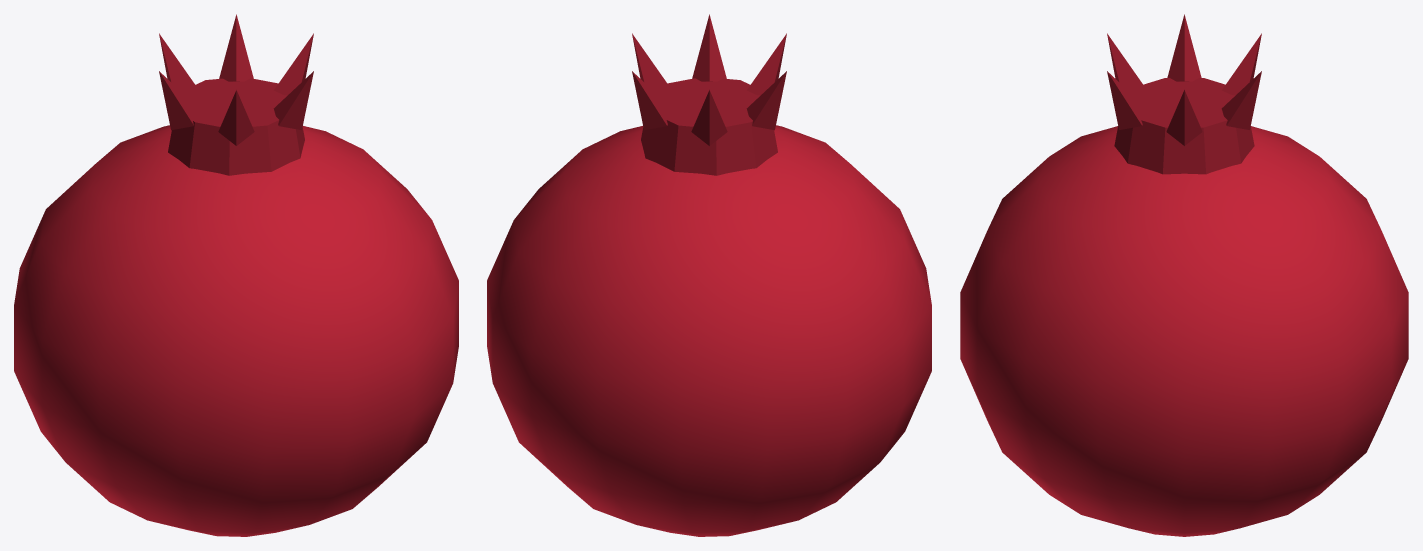
The model's file is Fruto_Pomegranate.fbx.
3 renders of one model, left to right at view 1: azimuth 30°, elevation 25°; view 2: azimuth 150°, elevation 25°; view 3: azimuth 270°, elevation 25°, orthographic.
Visible parts, largest first — view 1: Produto_Pomegranate; view 2: Produto_Pomegranate; view 3: Produto_Pomegranate.
Part boxes in pixels (bbox=[...]): Produto_Pomegranate: bbox=[14, 14, 458, 536]; Produto_Pomegranate: bbox=[487, 14, 931, 536]; Produto_Pomegranate: bbox=[960, 14, 1408, 536].
Size of the model in its own units: 0.7386 by 0.8425 by 0.7386.
1 material, 1 textured.
